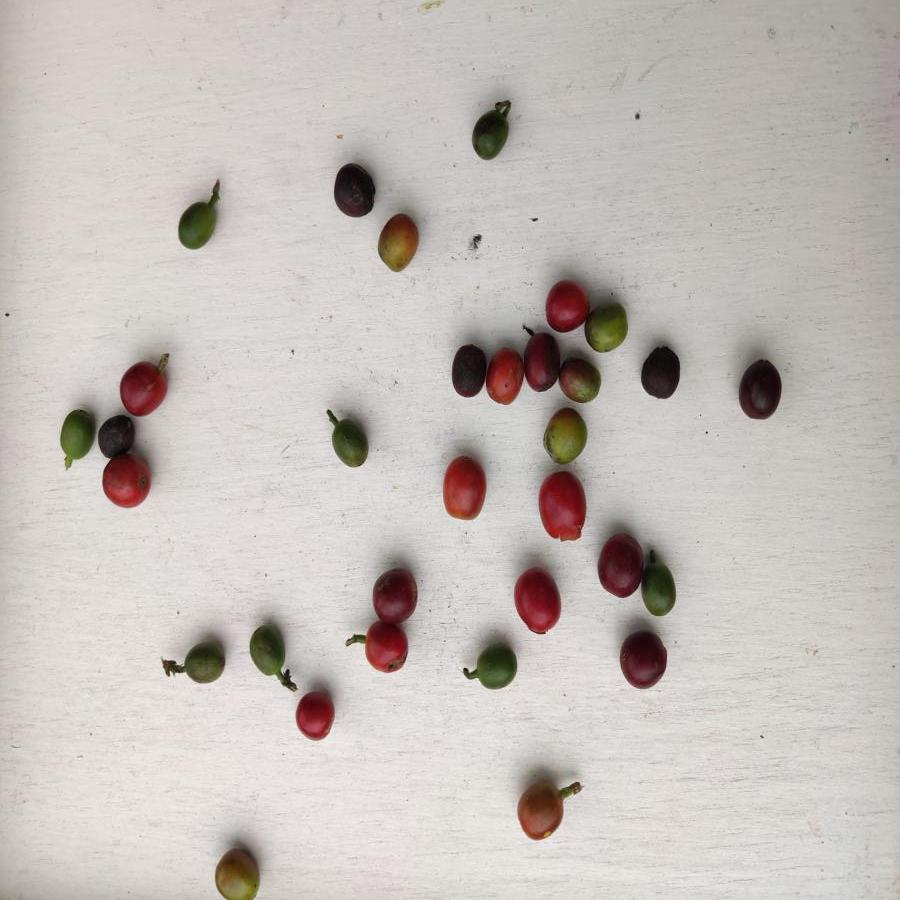Inmaduro: (245, 622, 289, 677), (471, 109, 513, 162), (179, 643, 228, 688), (177, 200, 221, 250), (641, 560, 679, 617), (329, 417, 369, 471), (474, 643, 517, 690), (60, 408, 94, 459)
Maduro: (535, 471, 589, 543), (511, 565, 562, 634), (440, 454, 487, 522), (117, 361, 169, 415), (359, 621, 410, 676), (98, 457, 151, 508), (486, 346, 527, 411), (293, 689, 338, 742), (543, 278, 587, 332)
Pinton: (515, 782, 564, 842), (212, 848, 268, 900), (541, 407, 590, 464), (376, 213, 422, 273), (585, 301, 630, 355), (558, 355, 603, 406)
Sobremaduro: (736, 356, 784, 422), (616, 629, 666, 690), (328, 159, 377, 220), (597, 533, 641, 597), (371, 566, 419, 621), (640, 345, 684, 401), (524, 331, 560, 390), (448, 342, 485, 399), (96, 415, 135, 457)
